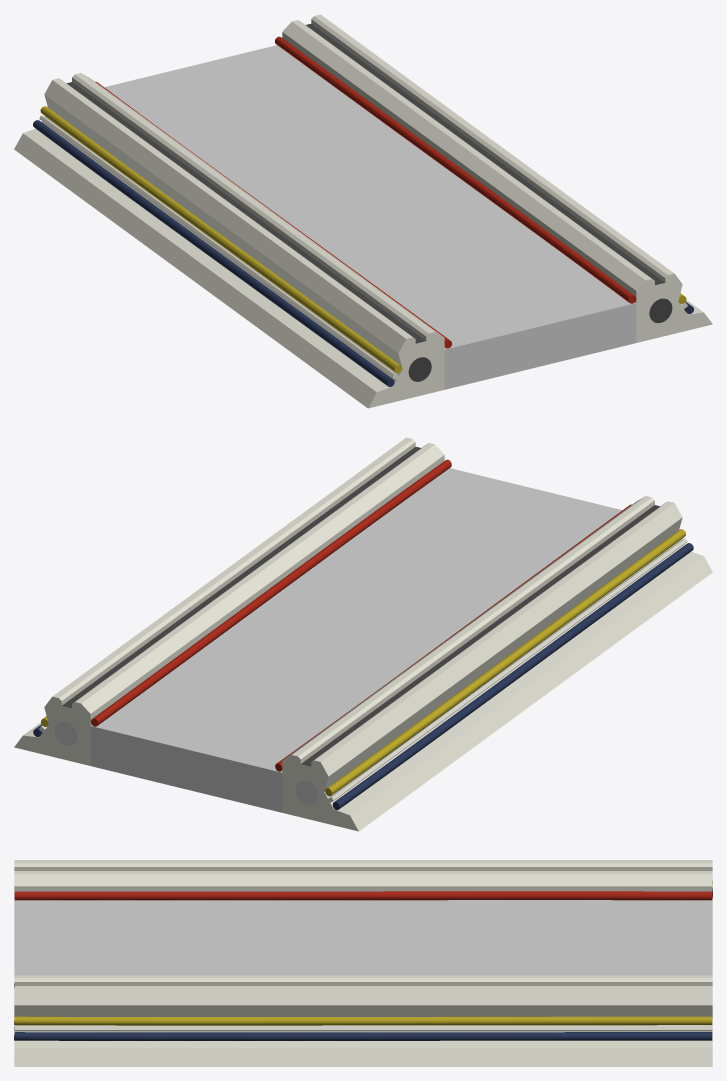
The model's file is Rampa.fbx.
3 views of the same model, one above another, from view 1: azimuth 30°, elevation 25°; view 2: azimuth 150°, elevation 25°; view 3: azimuth 270°, elevation 25° (orthographic).
Parts seen in each view (by area): view 1: Cube.003, Cube.001; view 2: Cube.003, Cube.001; view 3: Cube.003, Cube.001.
Part boxes in pixels (x1,y1,x2,y2): Cube.003: (14, 14, 712, 408); Cube.001: (104, 45, 636, 389); Cube.003: (14, 437, 712, 831); Cube.001: (90, 468, 622, 812); Cube.003: (14, 860, 712, 1066); Cube.001: (14, 898, 712, 975).
Size of the model in its own units: 450 by 75 by 801.
